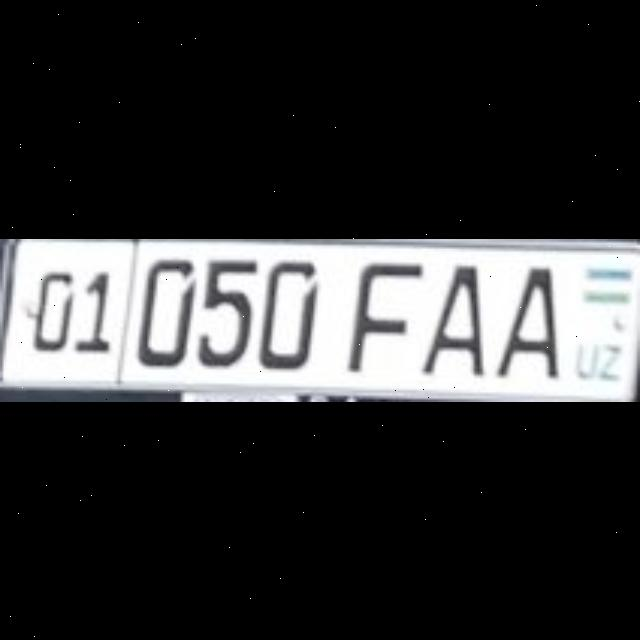0: (256, 259, 314, 365), (134, 256, 190, 364), (30, 268, 72, 350)
1: (70, 268, 108, 350)
5: (196, 256, 254, 364)
A: (492, 262, 552, 374), (419, 262, 476, 371)
F: (344, 258, 416, 368)
